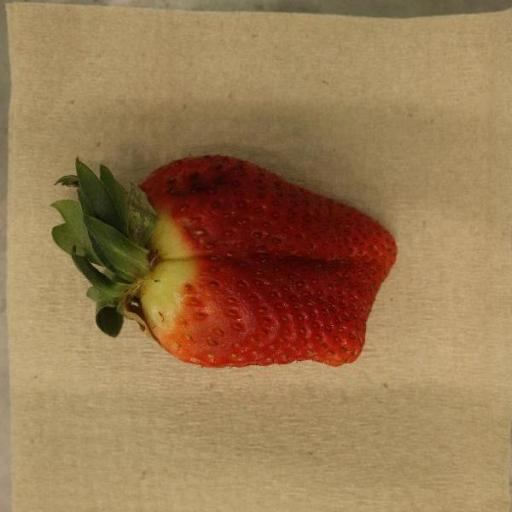Strawberry: (51, 155, 398, 368)
